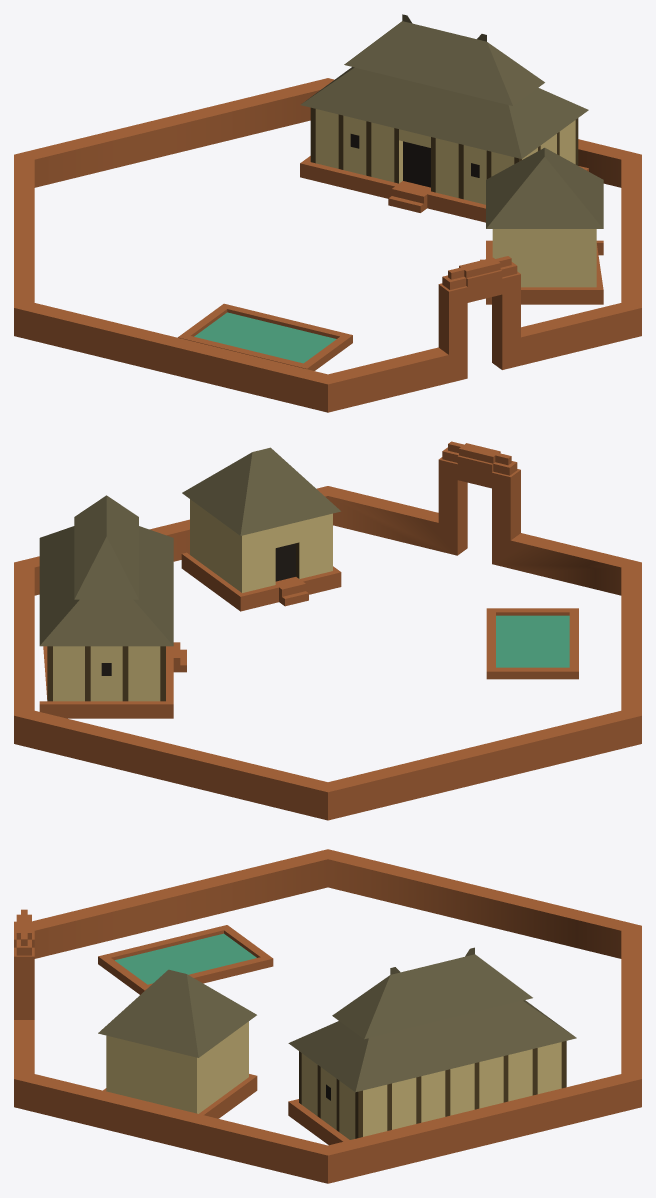
Rendered from MJ_Building_House_T2.fbx.
The picture shows the model from 3 angles, top to bottom: view 1: azimuth 30°, elevation 25°; view 2: azimuth 150°, elevation 25°; view 3: azimuth 270°, elevation 25°; orthographic projection.
Visible parts, largest first — view 1: Model, Group2, Group1, Group3; view 2: Model, Group2, Group1, Group3; view 3: Model, Group2, Group1, Group3.
Boxes of the visible parts, x1,y1,x2,y2 form: Model: (14,78,641,412); Group2: (300,67,588,222); Group1: (480,147,603,304); Group3: (344,14,544,105); Model: (14,441,641,820); Group2: (39,526,186,718); Group1: (181,447,341,611); Group3: (74,495,138,599); Model: (14,849,641,1183); Group2: (288,1000,576,1145); Group1: (98,969,257,1118); Group3: (332,947,532,1039).
Size of the model in its own units: 5.82 by 1.38 by 5.04.
